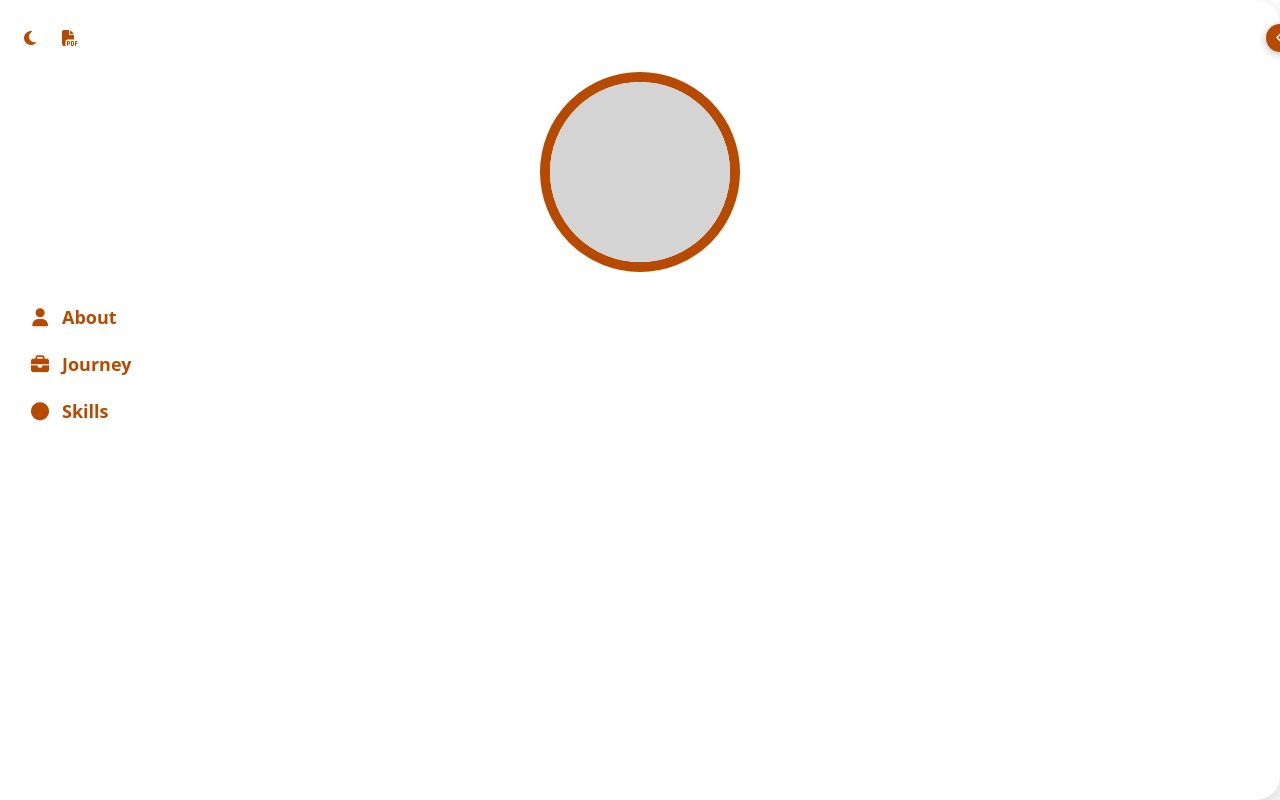
Test: NavBarComponent › should switch the theme from the sidebar toggle
Expected: the icon with class "fa-moon" is shown, 24,30 -> 36,46
What coordinates should you click on to do the following:
click the button with class "btn-theme"
I would click on:
 (30, 38)
Its box is 12,20 -> 48,56.
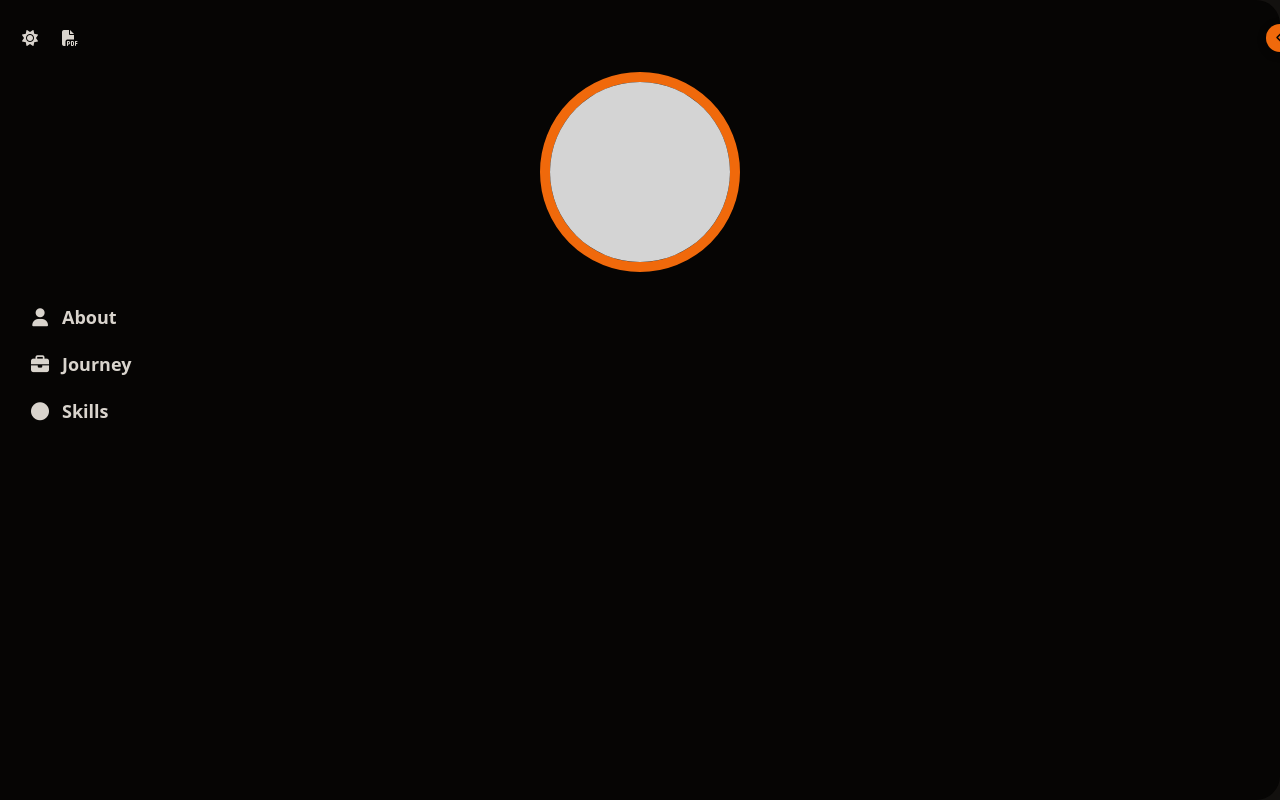
Now the icon with class "fa-sun" is shown, box 22,30 -> 38,46
